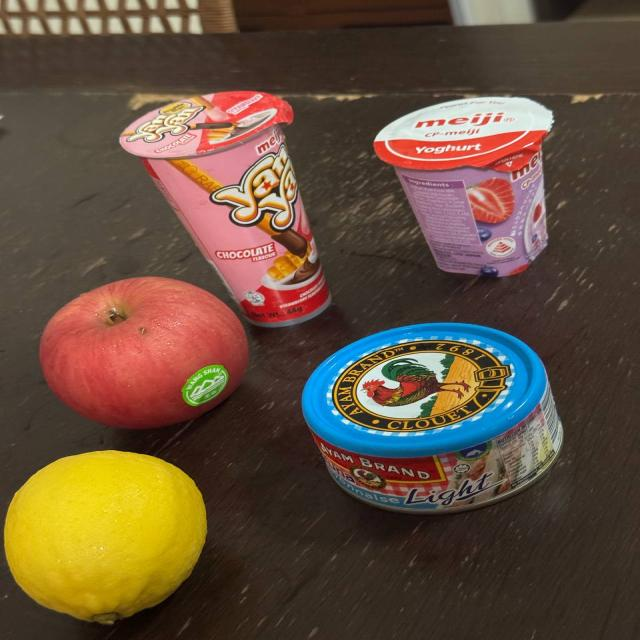apple: (31, 270, 253, 433)
lemon: (0, 443, 216, 627)
tuna-can: (291, 313, 578, 510)
yanyan-cracker: (111, 83, 342, 332)
yogurt: (367, 90, 569, 287)
